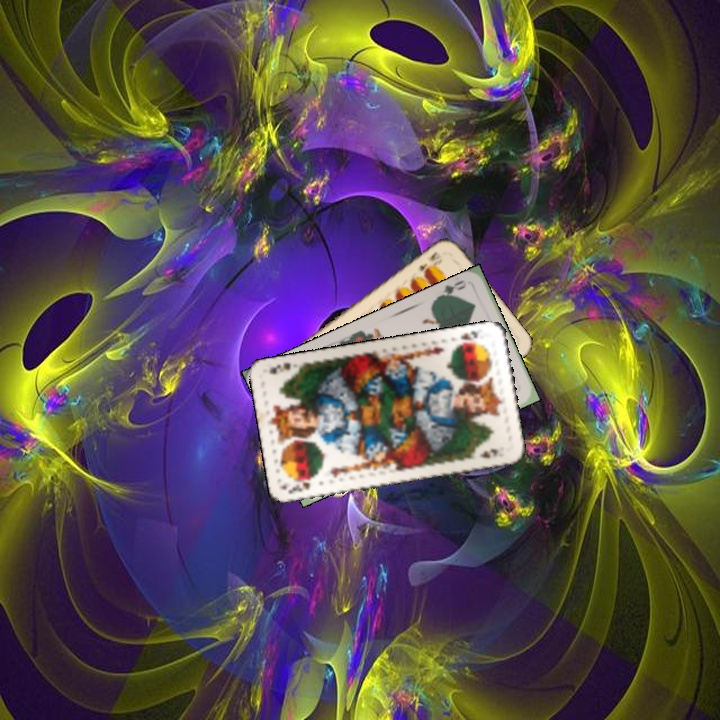E10: (415, 247, 444, 275)
GO: (432, 276, 469, 302)
SK: (451, 327, 480, 350), (284, 477, 313, 496)
